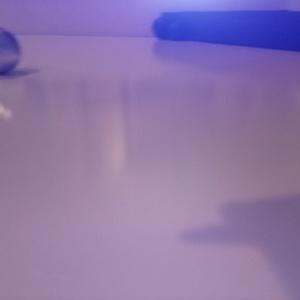alive_ball: (1, 26, 20, 75)
dead_ball: (151, 15, 174, 39), (166, 20, 186, 40)
